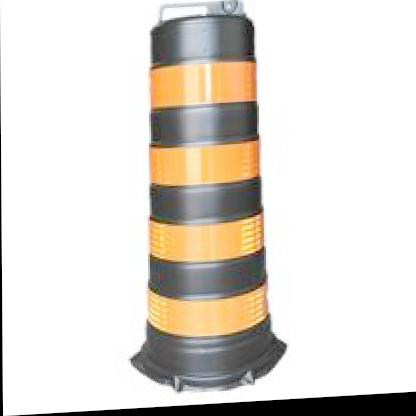obstacle: (136, 13, 272, 378)
